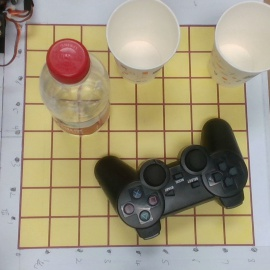bottle: (38, 37, 124, 163)
cup: (102, 1, 181, 100), (198, 3, 270, 95)
remote: (93, 118, 249, 241)
